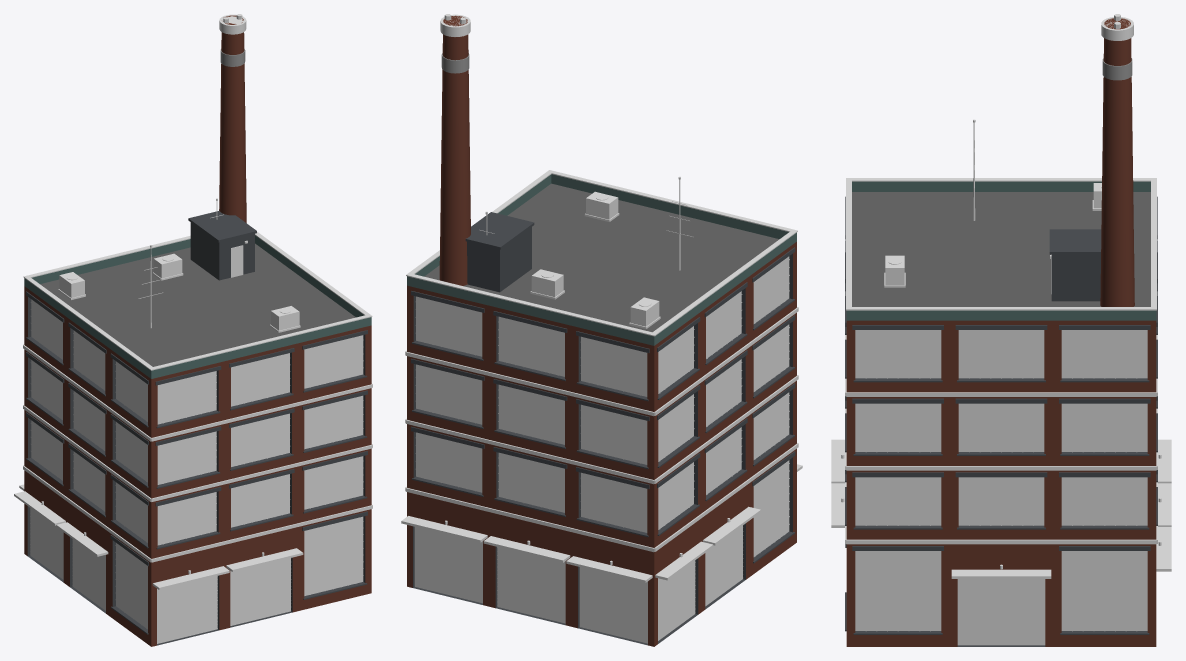
The model's file is LB_FR_Works_B.fbx.
3 views of the same model, side by side, from view 1: azimuth 30°, elevation 25°; view 2: azimuth 150°, elevation 25°; view 3: azimuth 270°, elevation 25° (orthographic). The views are drawn at different scales.
Visible parts, largest first — view 1: LB_FR_Works_B_LOD0; view 2: LB_FR_Works_B_LOD0; view 3: LB_FR_Works_B_LOD0.
Boxes of the visible parts, box(x1,y1,x2,y2) form: LB_FR_Works_B_LOD0: box(14, 14, 372, 646); LB_FR_Works_B_LOD0: box(401, 14, 802, 646); LB_FR_Works_B_LOD0: box(831, 14, 1171, 646).
Size of what is drawn, in the model's own units: 17.6 by 34.85 by 17.6.
